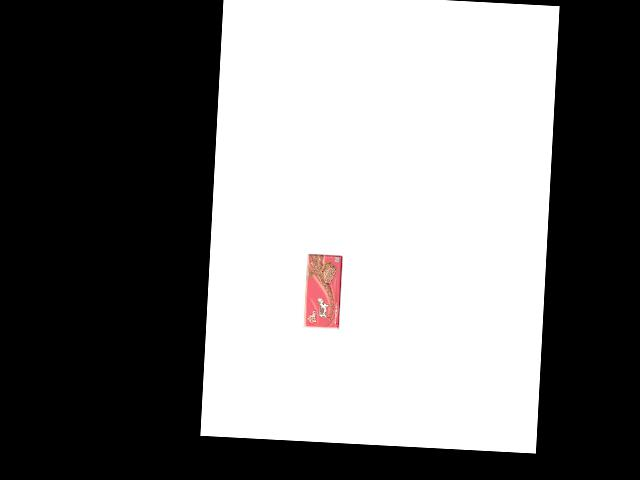chocolate: (296, 250, 336, 322)
